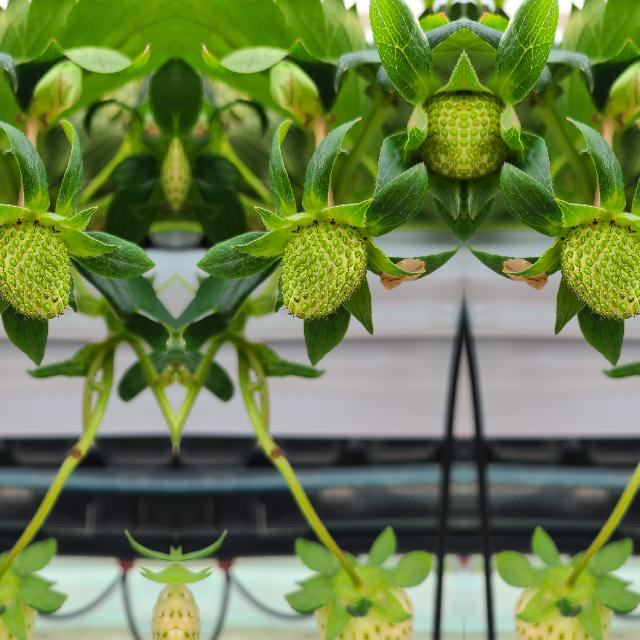Health_25: (280, 220, 366, 320), (560, 220, 640, 319), (0, 220, 69, 319), (420, 87, 462, 173), (464, 87, 506, 173)
